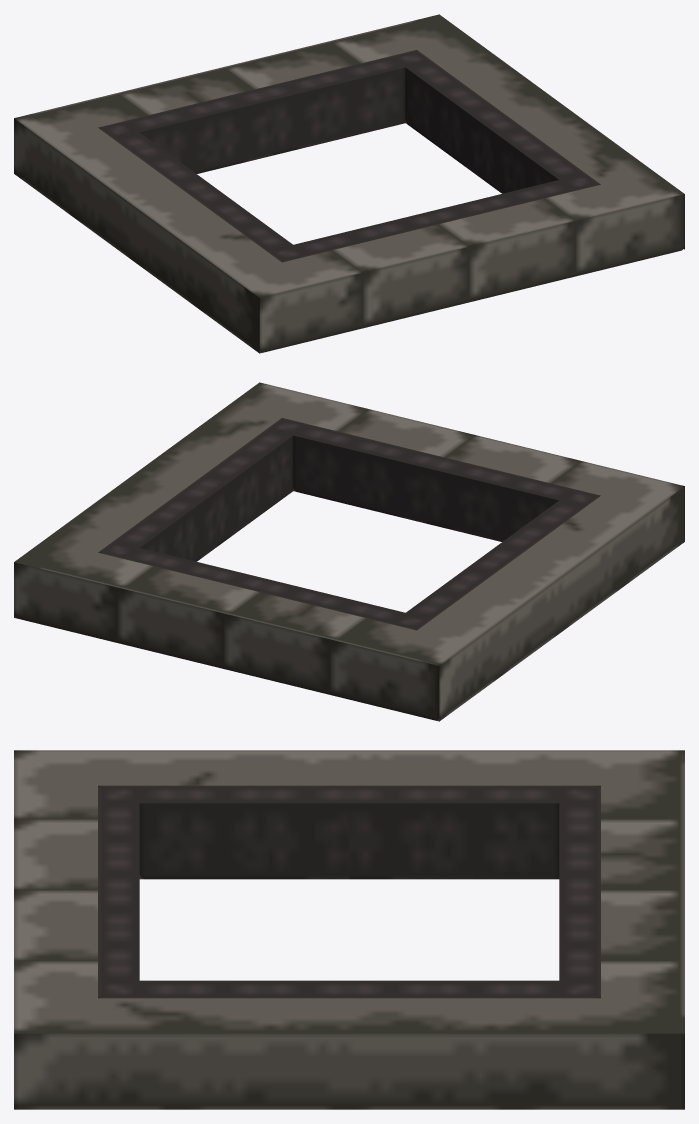
The model's file is Ceiling_2x2_Frame.fbx.
3 views of the same model, one above another, from view 1: azimuth 30°, elevation 25°; view 2: azimuth 150°, elevation 25°; view 3: azimuth 270°, elevation 25° (orthographic). The views are drawn at different scales.
Visible parts, largest first — view 1: Ceiling_2x2_Frame; view 2: Ceiling_2x2_Frame; view 3: Ceiling_2x2_Frame.
Part boxes in pixels (x1,y1,x2,y2): Ceiling_2x2_Frame: [14, 14, 684, 353]; Ceiling_2x2_Frame: [14, 382, 684, 721]; Ceiling_2x2_Frame: [14, 750, 684, 1109].
Size of the model in its own units: 400 by 50 by 400.
1 material, 1 textured.
